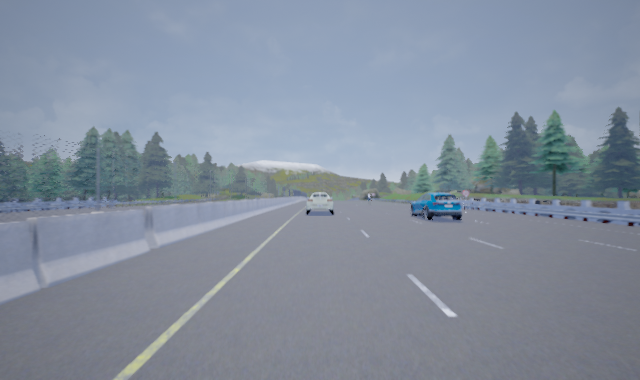vehicle: (408, 191, 462, 220), (305, 192, 334, 215)
